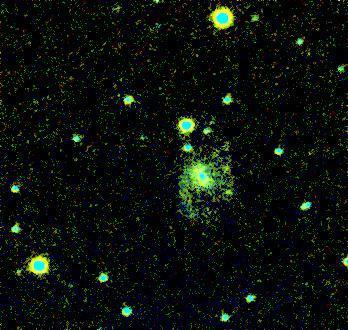star: (211, 175, 241, 205)
